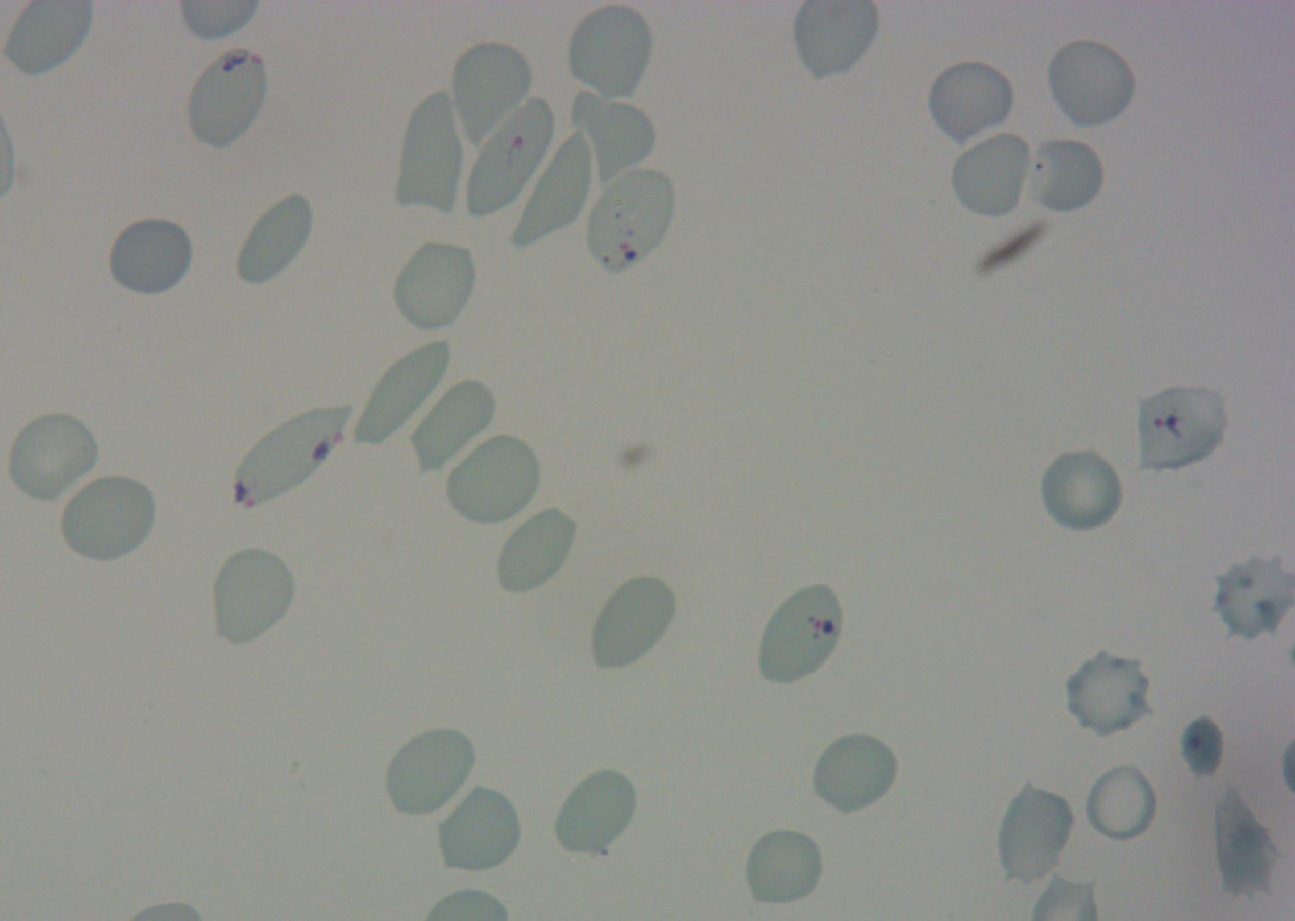Infected: (229, 404, 346, 507), (463, 95, 556, 217), (582, 162, 678, 274), (757, 579, 846, 682), (185, 47, 268, 150), (1134, 385, 1228, 471)
Uninfected: (346, 337, 453, 448), (403, 377, 504, 483), (444, 432, 546, 528), (4, 408, 103, 505), (57, 471, 160, 564), (512, 130, 592, 248), (381, 725, 479, 821), (207, 545, 298, 647), (1043, 35, 1138, 130), (229, 186, 316, 288), (586, 573, 678, 669), (565, 4, 655, 101), (993, 784, 1077, 886), (923, 57, 1017, 147), (395, 90, 462, 216), (389, 238, 480, 330), (452, 41, 534, 141), (1062, 649, 1153, 738), (550, 767, 641, 855), (493, 505, 580, 597), (947, 129, 1034, 220), (104, 214, 197, 299), (808, 731, 901, 816), (1037, 446, 1126, 534), (570, 89, 654, 179), (1211, 552, 1294, 642), (1021, 132, 1106, 215), (741, 827, 825, 908), (442, 786, 518, 871), (1216, 796, 1274, 893), (1085, 762, 1156, 838), (1178, 713, 1224, 784)
